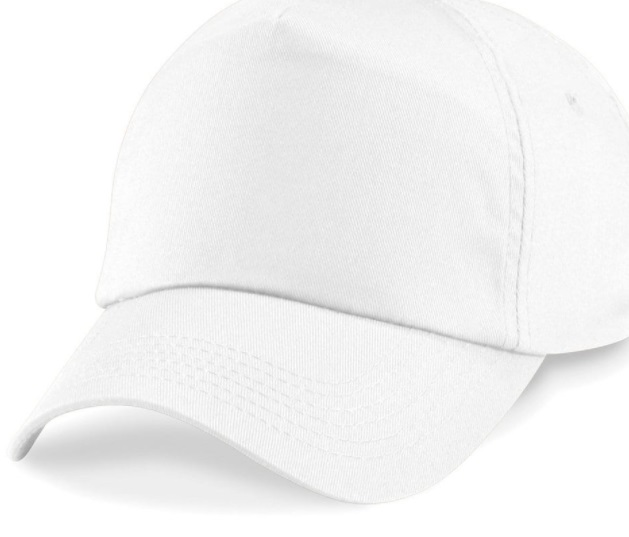White: (8, 4, 620, 506)
